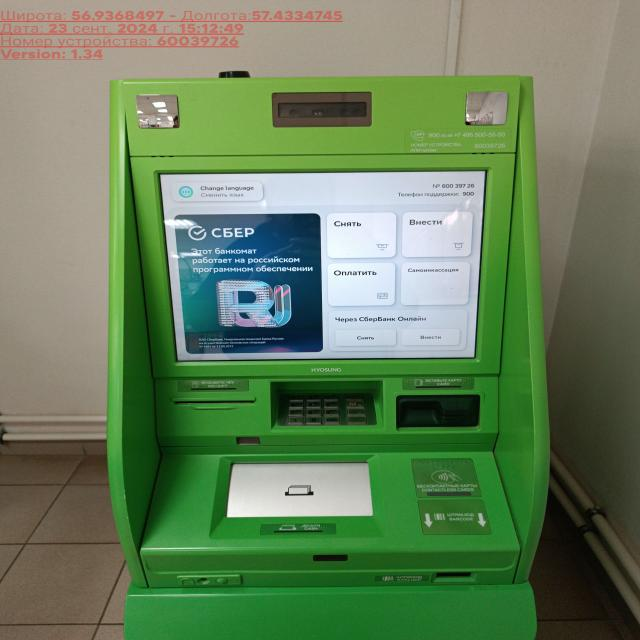bank: (100, 71, 553, 640)
